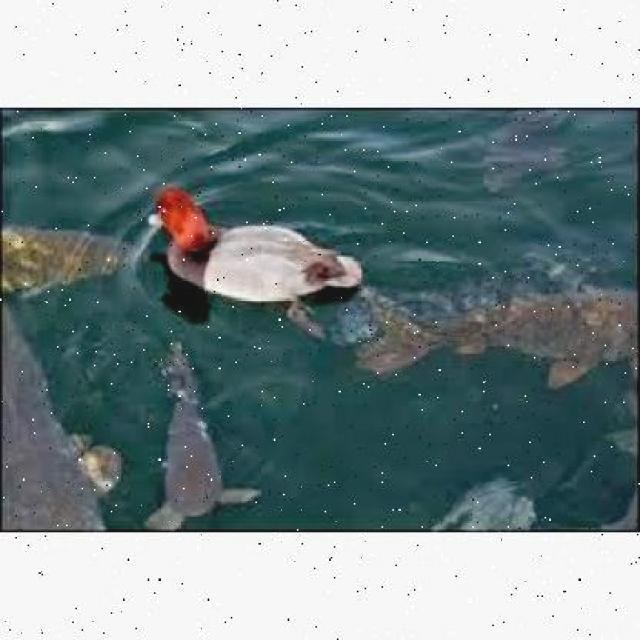ikan-mas: (364, 278, 638, 380)
